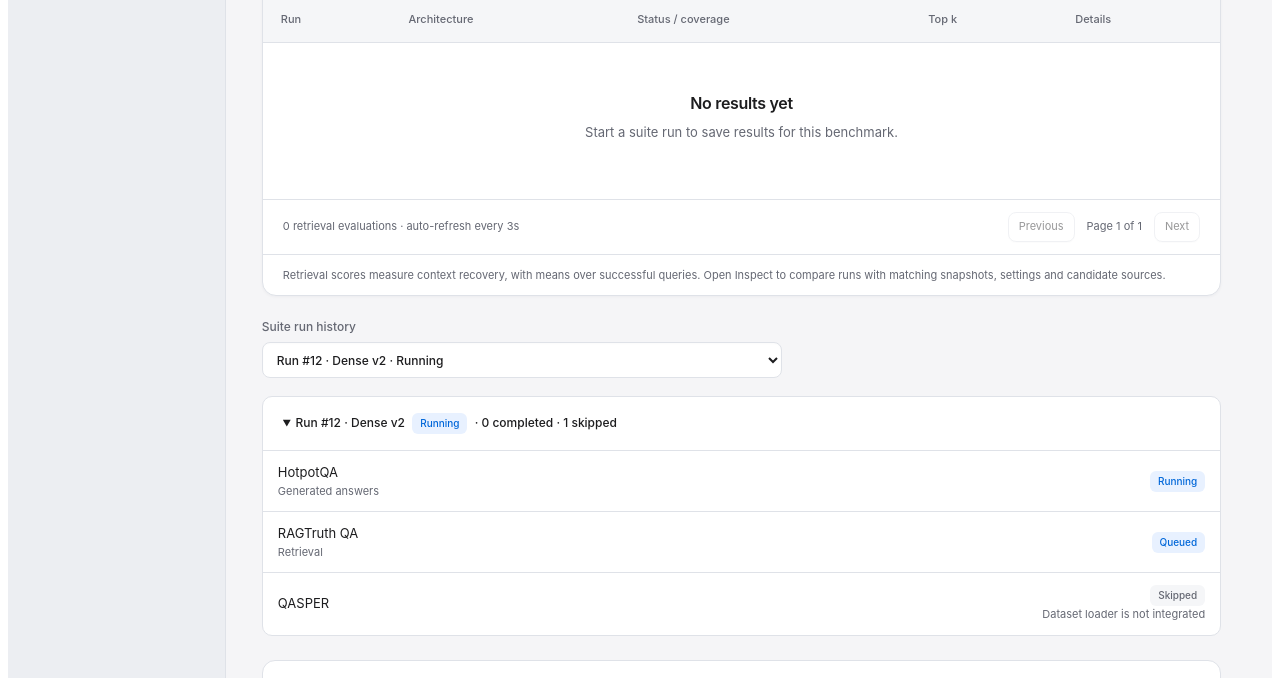
Test case: Benchmark workspace › announces the active suite above the selected table while another benchmark runs
(page scrolled)
Expected: the text "Start a suite run to save results for this benchmark." is shown, left=585, top=124, right=898, bottom=140
Select "Run #11 · Dense v2 · Completed" in the dropdown labelled "Suite run history". click: coordinates (522, 360)
box: left=262, top=342, right=782, bottom=378
(page scrolled)
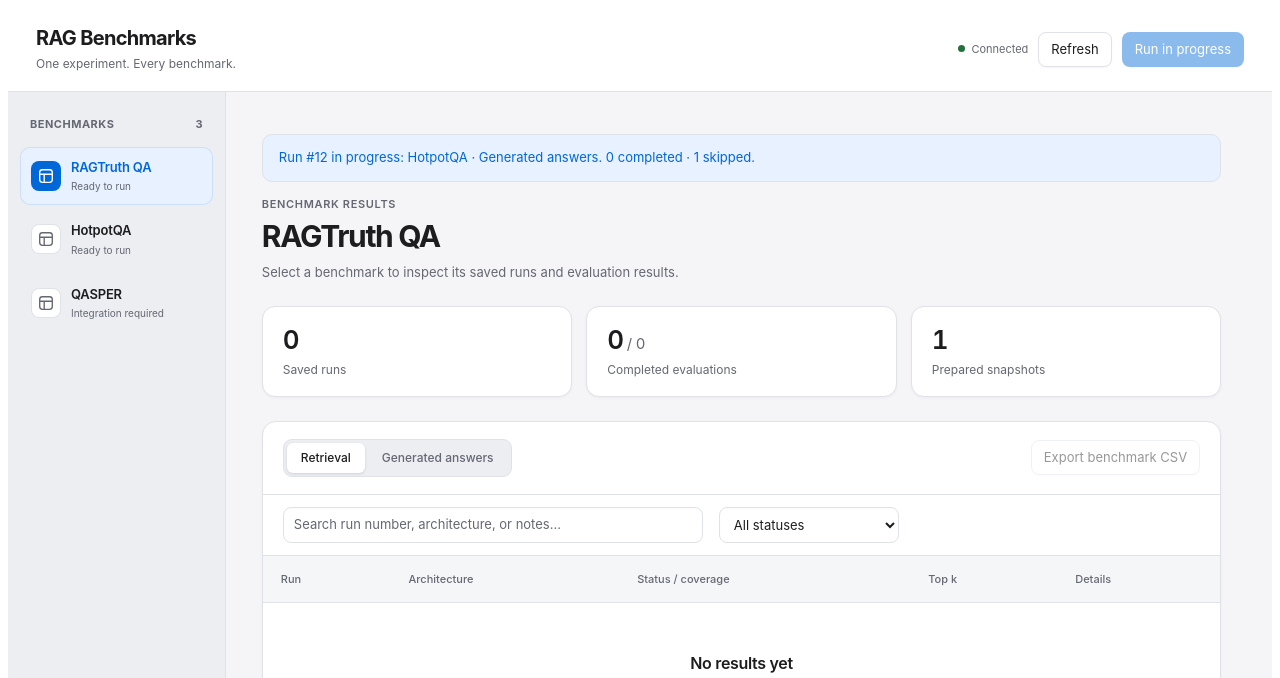
Click the button "QASPER Integration required". click: coordinates (116, 303)
box: left=20, top=274, right=213, bottom=332
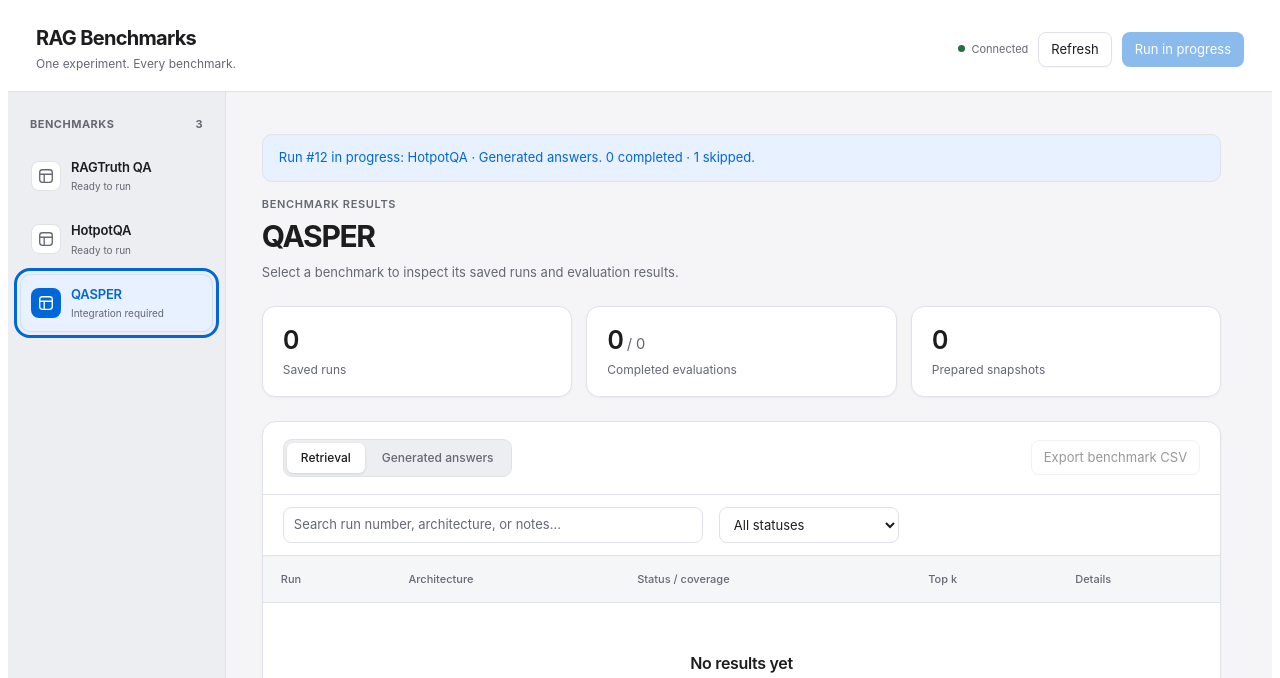
Expected: the message shows "Run #12 in progress: HotpotQA", left=279, top=149, right=755, bottom=165
Click the button "Refresh". click: coordinates (1075, 50)
box: left=1038, top=32, right=1112, bottom=67
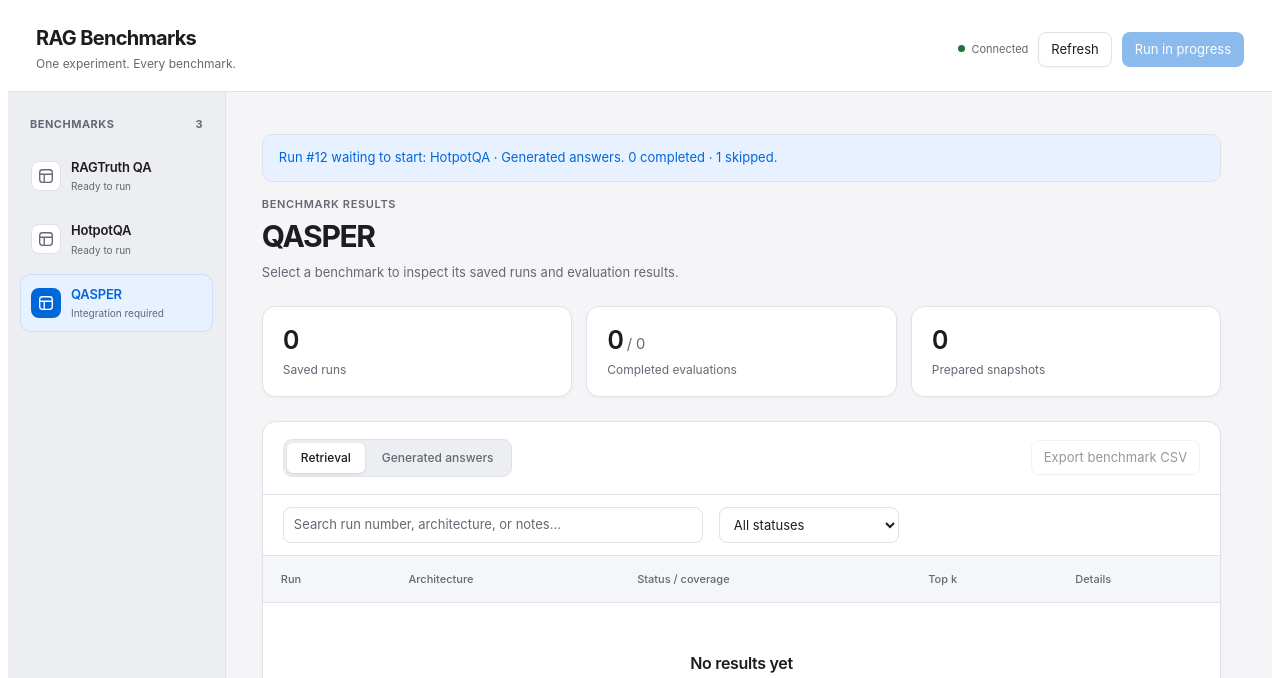
Expected: the message shows "Run #12 waiting to start: HotpotQA · Generated answers.", left=279, top=149, right=777, bottom=165
Click the button "Refresh". click: coordinates (1075, 50)
box: left=1038, top=32, right=1112, bottom=67
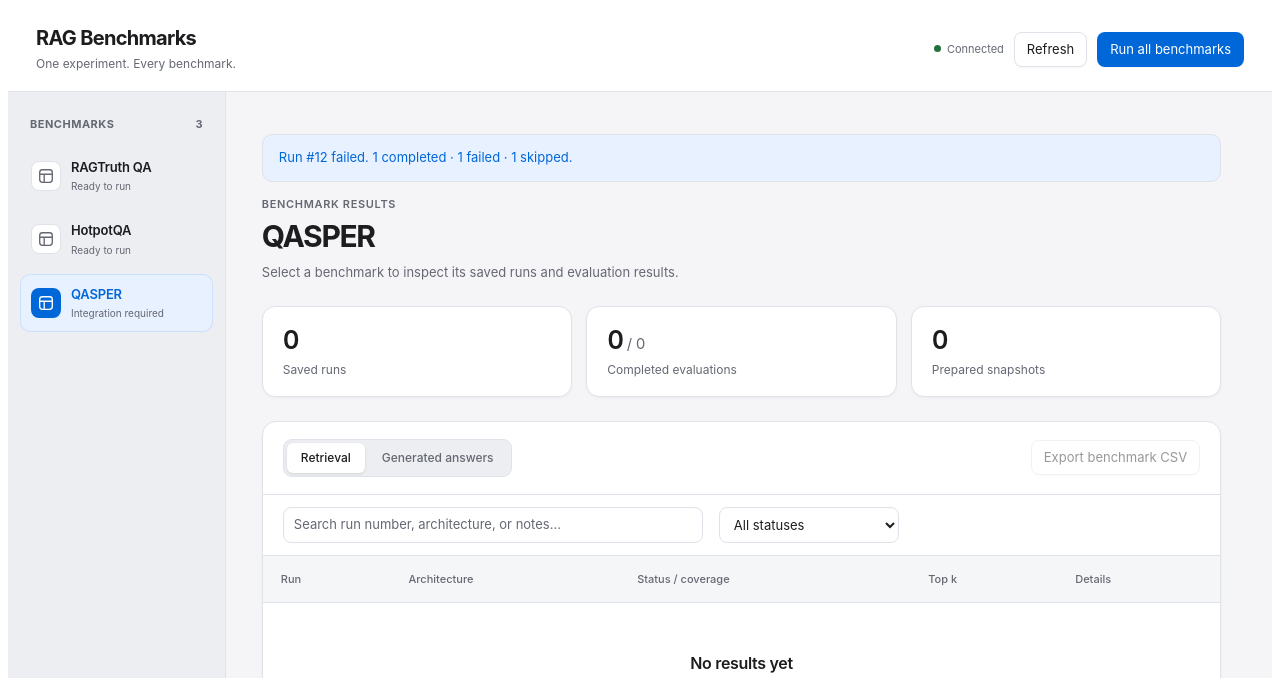
Expected: the message reads "Run #12 failed. 1 completed · 1 failed · 1 skipped.", left=279, top=149, right=572, bottom=165
